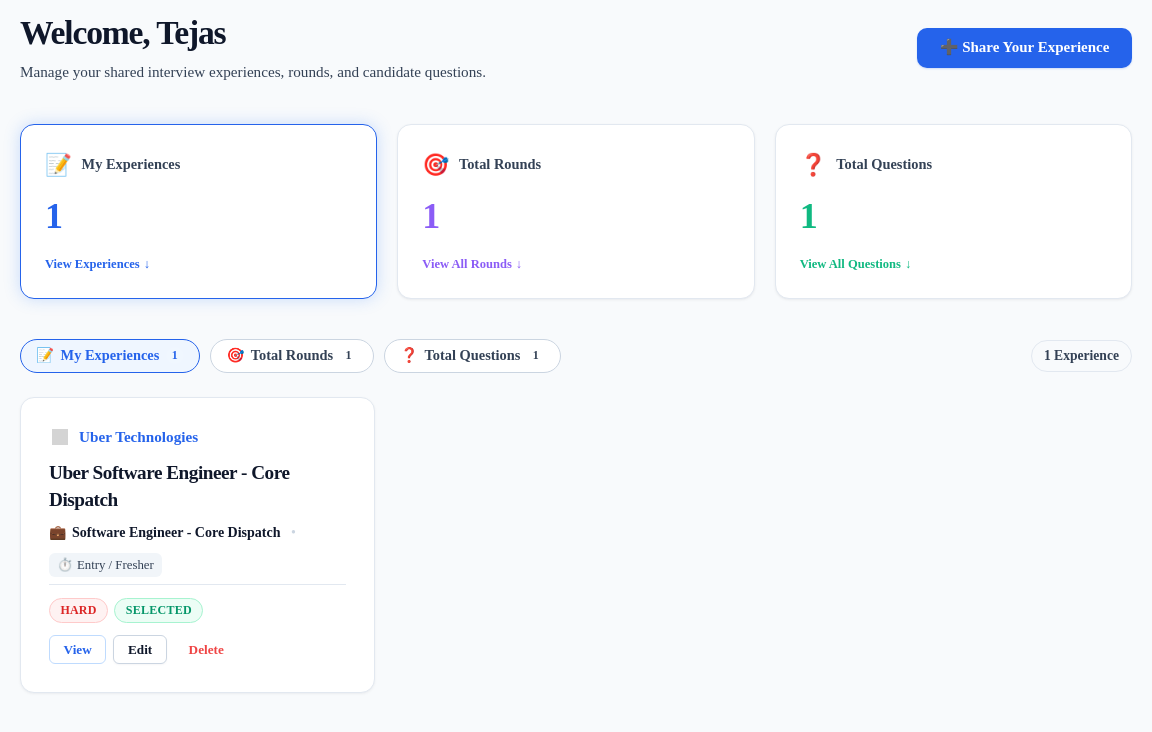
DASHBOARD: Stat Cards, Interactive Redirects & View Switching › redirects/switches view to Total Rounds when Total Rounds stat card is clicked
Expected: the link "Uber Software Engineer - Core Dispatch" is shown, x1=49 y1=462 x2=290 y2=510
Click the button with id "stat-total-rounds" at (500, 164), box x1=397 y1=124 x2=755 y2=299
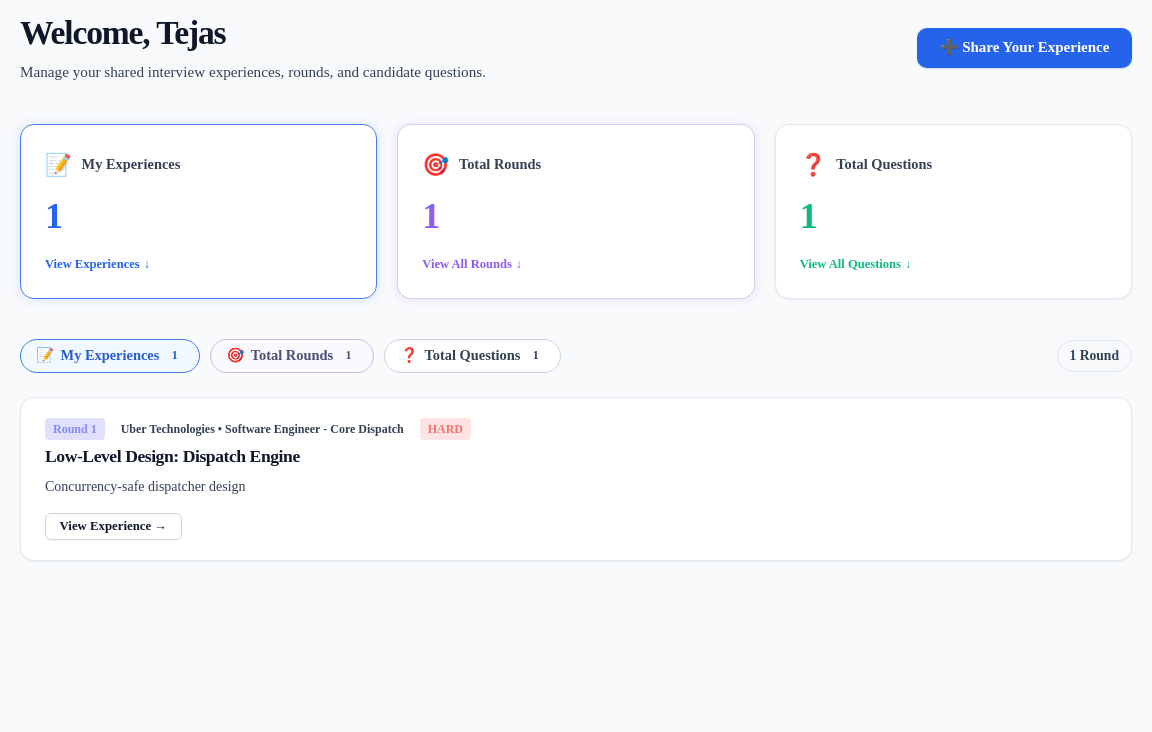
Expected: the element that starts with "Round" is shown, x1=20 y1=396 x2=1132 y2=562
Expected: the heading "Low-Level Design: Dispatch Engine" is shown, x1=45 y1=446 x2=300 y2=466
